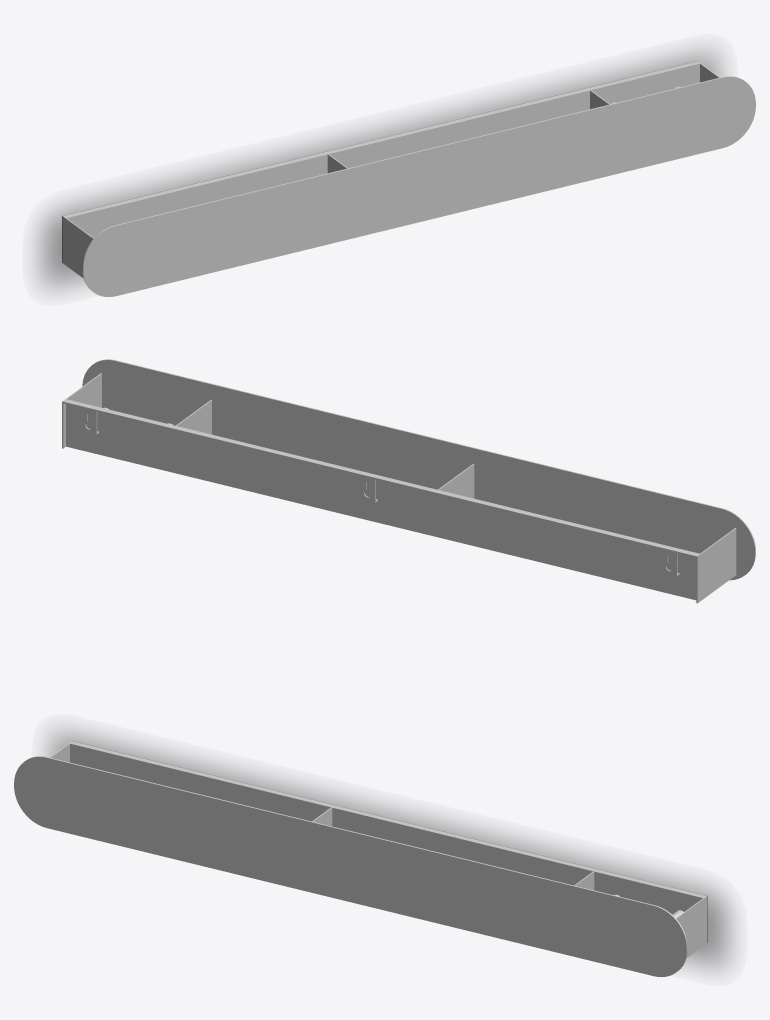
File: round-patron.e15155e528.ar.glb
3 renders of one model, top to bottom at view 1: azimuth 30°, elevation 25°; view 2: azimuth 150°, elevation 25°; view 3: azimuth 330°, elevation 25°, orthographic.
Parts seen in each view (by area): view 1: NAUO1, object 2; view 2: NAUO1; view 3: NAUO1, object 2.
Part boxes in pixels (bbox=[...]): NAUO1: bbox=[62, 61, 755, 297]; object 2: bbox=[36, 51, 723, 288]; NAUO1: bbox=[62, 359, 755, 603]; NAUO1: bbox=[14, 741, 707, 977]; object 2: bbox=[46, 731, 733, 968].
Size of the model in its own units: 0.98 by 0.17 by 0.092.
2 materials, 1 textured.
